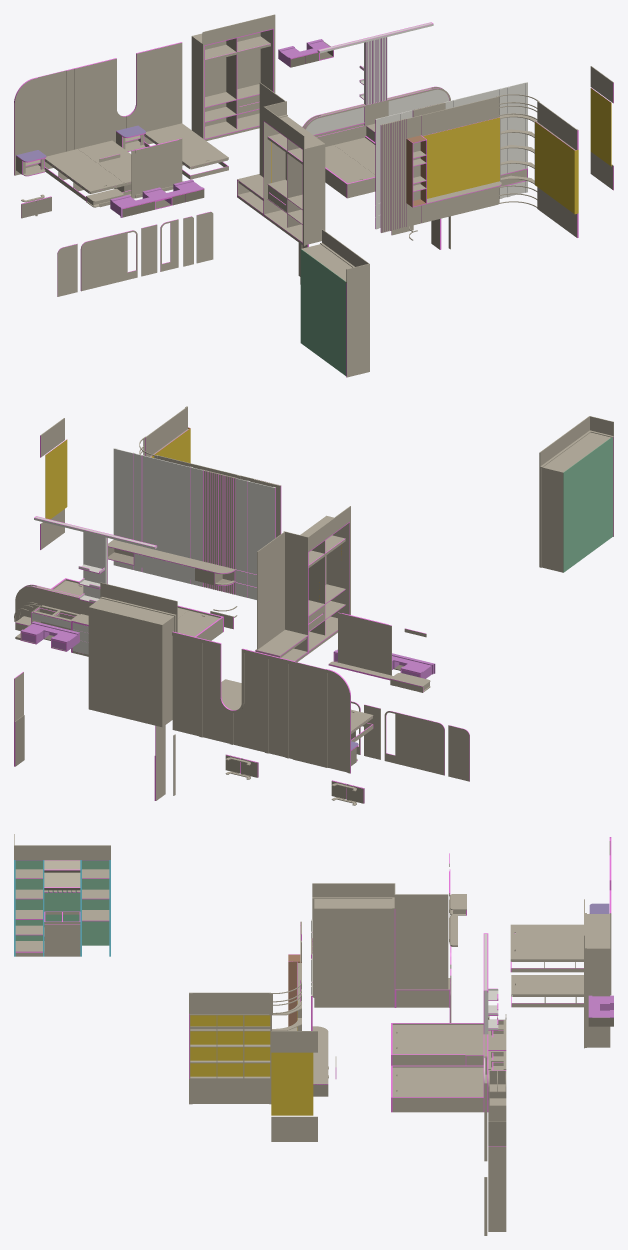
3 renders of one model, top to bottom at view 1: azimuth 30°, elevation 25°; view 2: azimuth 150°, elevation 25°; view 3: azimuth 270°, elevation 25°, orthographic. The views are drawn at different scales.
Parts seen in each view (by area): view 1: Geom3D_ABF_PART_715____LYR_[Layer0]____715. Hệ vách tivi - V, Geom3D_ABF_PART_106____LYR_[Layer0]____106. Kệ tivi - Hậu, Geom3D_ABF_PART_128____LYR_[Layer0]____128. Ốp đầu giường 34, Geom3D_ABF_PART_147____LYR_[Layer0]____147. Ốp đầu giường 34, Geom3D_ABF_PART_366____LYR_[Layer0]____366. Tủ rượu - md trá, Geom3D, Geom3D_ABF_PART_220____LYR_[Layer0]____220. Ốp đầu giường 34, Geom3D_ABF_PART_704____LYR_[Layer0]____704. Hệ vách tivi - V, Geom3D_ABF_PART_390____LYR_[Layer0]____390. Tủ áo - Hông trá, Geom3D_ABF_PART_181____LYR_[Layer0]____181. Tủ rượu - md giữ, Geom3D_ABF_PART_150____LYR_[Layer0]____150. Ốp đầu giường 34, Geom3D_ABF_PART_99____LYR_[Layer0]____99. Ốp đầu giường 34 - (+43 smaller); view 2: Geom3D_ABF_PART_17____LYR_[Layer0]____17. Vách ốp, Geom3D_ABF_PART_459____LYR_[Layer0]____459. Tủ áo - Hậu, Geom3D_ABF_PART_612____LYR_[Layer0]____612. Tủ áo - Hậu, Geom3D_ABF_PART_128____LYR_[Layer0]____128. Ốp đầu giường 34, Geom3D_ABF_PART_106____LYR_[Layer0]____106. Kệ tivi - Hậu, Geom3D, Geom3D_ABF_PART_147____LYR_[Layer0]____147. Ốp đầu giường 34, Geom3D_ABF_PART_220____LYR_[Layer0]____220. Ốp đầu giường 34, Geom3D_ABF_PART_362____LYR_[Layer0]____362. Bục vali - Ốp vá, Geom3D_ABF_PART_339____LYR_[Layer0]____339. Tủ rượu - md phả, Geom3D_ABF_PART_181____LYR_[Layer0]____181. Tủ rượu - md giữ, Geom3D_ABF_PART_4____LYR_[Layer0]____4. Vách ốp (+30 smaller); view 3: Geom3D_ABF_PART_362____LYR_[Layer0]____362. Bục vali - Ốp vá, Geom3D_ABF_PART_427____LYR_[Layer0]____427. Tủ áo - Hậu, Geom3D_ABF_PART_434____LYR_[Layer0]____434. Tủ áo - Hậu, Geom3D_ABF_PART_704____LYR_[Layer0]____704. Hệ vách tivi - V, Geom3D_ABF_PART_169____LYR_[Layer0]____169. Hệ vách tivi - V, Geom3D_ABF_PART_642____LYR_[Layer0]____642. Hệ vách tivi - V, Geom3D_ABF_PART_706____LYR_[Layer0]____706. Hệ vách tivi - V, Geom3D_ABF_PART_464____LYR_[Layer0]____464. Tủ áo - Hông phả, Geom3D_ABF_PART_302____LYR_[Layer0]____302. Bàn học - modul , Geom3D_ABF_PART_87____LYR_[Layer0]____87. Tủ rượu - md phải , Geom3D_ABF_PART_249____LYR_[Layer0]____249. Giường 1m6 - Vạt, Geom3D_ABF_PART_490____LYR_[Layer0]____490. Giường 1m6 - Vạt (+23 smaller).
Boxes of the visible parts, <box> form: Geom3D_ABF_PART_715____LYR_[Layer0]____715. Hệ vách tivi - V: <box>427,133,499,198</box>; Geom3D_ABF_PART_106____LYR_[Layer0]____106. Kệ tivi - Hậu: <box>81,230,137,291</box>; Geom3D_ABF_PART_128____LYR_[Layer0]____128. Ốp đầu giường 34: <box>38,70,66,156</box>; Geom3D_ABF_PART_147____LYR_[Layer0]____147. Ốp đầu giường 34: <box>155,43,182,129</box>; Geom3D_ABF_PART_366____LYR_[Layer0]____366. Tủ rượu - md trá: <box>347,277,369,377</box>; Geom3D: <box>131,139,182,198</box>; Geom3D_ABF_PART_220____LYR_[Layer0]____220. Ốp đầu giường 34: <box>93,58,126,144</box>; Geom3D_ABF_PART_704____LYR_[Layer0]____704. Hệ vách tivi - V: <box>535,137,574,213</box>; Geom3D_ABF_PART_390____LYR_[Layer0]____390. Tủ áo - Hông trá: <box>306,144,324,244</box>; Geom3D_ABF_PART_181____LYR_[Layer0]____181. Tủ rượu - md giữ: <box>315,259,332,366</box>; Geom3D_ABF_PART_150____LYR_[Layer0]____150. Ốp đầu giường 34: <box>126,49,155,131</box>; Geom3D_ABF_PART_99____LYR_[Layer0]____99. Ốp đầu giường 34 -: <box>14,78,37,175</box>; Geom3D_ABF_PART_17____LYR_[Layer0]____17. Vách ốp: <box>142,455,190,558</box>; Geom3D_ABF_PART_459____LYR_[Layer0]____459. Tủ áo - Hậu: <box>125,616,162,727</box>; Geom3D_ABF_PART_612____LYR_[Layer0]____612. Tủ áo - Hậu: <box>88,607,125,718</box>; Geom3D_ABF_PART_128____LYR_[Layer0]____128. Ốp đầu giường 34: <box>292,661,327,767</box>; Geom3D_ABF_PART_106____LYR_[Layer0]____106. Kệ tivi - Hậu: <box>384,711,444,775</box>; Geom3D: <box>338,613,391,675</box>; Geom3D_ABF_PART_147____LYR_[Layer0]____147. Ốp đầu giường 34: <box>172,636,199,736</box>; Geom3D_ABF_PART_220____LYR_[Layer0]____220. Ốp đầu giường 34: <box>233,653,264,752</box>; Geom3D_ABF_PART_362____LYR_[Layer0]____362. Bục vali - Ốp vá: <box>257,547,284,649</box>; Geom3D_ABF_PART_339____LYR_[Layer0]____339. Tủ rượu - md phả: <box>542,467,563,572</box>; Geom3D_ABF_PART_181____LYR_[Layer0]____181. Tủ rượu - md giữ: <box>578,447,597,561</box>; Geom3D_ABF_PART_4____LYR_[Layer0]____4. Vách ốp: <box>248,481,275,574</box>; Geom3D_ABF_PART_362____LYR_[Layer0]____362. Bục vali - Ốp vá: <box>395,908,448,989</box>; Geom3D_ABF_PART_427____LYR_[Layer0]____427. Tủ áo - Hậu: <box>314,908,354,1007</box>; Geom3D_ABF_PART_434____LYR_[Layer0]____434. Tủ áo - Hậu: <box>354,908,394,1007</box>; Geom3D_ABF_PART_704____LYR_[Layer0]____704. Hệ vách tivi - V: <box>190,1031,270,1076</box>; Geom3D_ABF_PART_169____LYR_[Layer0]____169. Hệ vách tivi - V: <box>271,1052,313,1115</box>; Geom3D_ABF_PART_642____LYR_[Layer0]____642. Hệ vách tivi - V: <box>192,1079,269,1103</box>; Geom3D_ABF_PART_706____LYR_[Layer0]____706. Hệ vách tivi - V: <box>189,992,270,1014</box>; Geom3D_ABF_PART_464____LYR_[Layer0]____464. Tủ áo - Hông phả: <box>587,948,609,1047</box>; Geom3D_ABF_PART_302____LYR_[Layer0]____302. Bàn học - modul : <box>488,1147,506,1231</box>; Geom3D_ABF_PART_87____LYR_[Layer0]____87. Tủ rượu - md phải : <box>82,860,109,945</box>; Geom3D_ABF_PART_249____LYR_[Layer0]____249. Giường 1m6 - Vạt: <box>392,1025,483,1040</box>; Geom3D_ABF_PART_490____LYR_[Layer0]____490. Giường 1m6 - Vạt: <box>392,1067,483,1082</box>.
Bounding box in the file's own units: 12.24 × 5.75 × 13.19.
